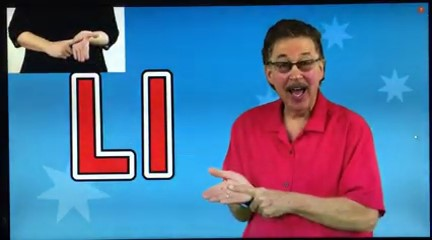L: (198, 160, 305, 228)
